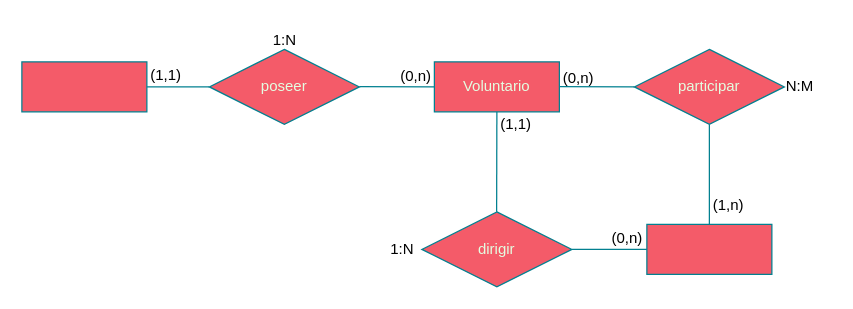
The diagram is 853 pixels wide and 309 high, and some of its shapes have lost their labels. Each missing label, with the centre of its shape:
"Campaña" belongs at point (709, 248).
"Título" belongs at point (84, 86).
